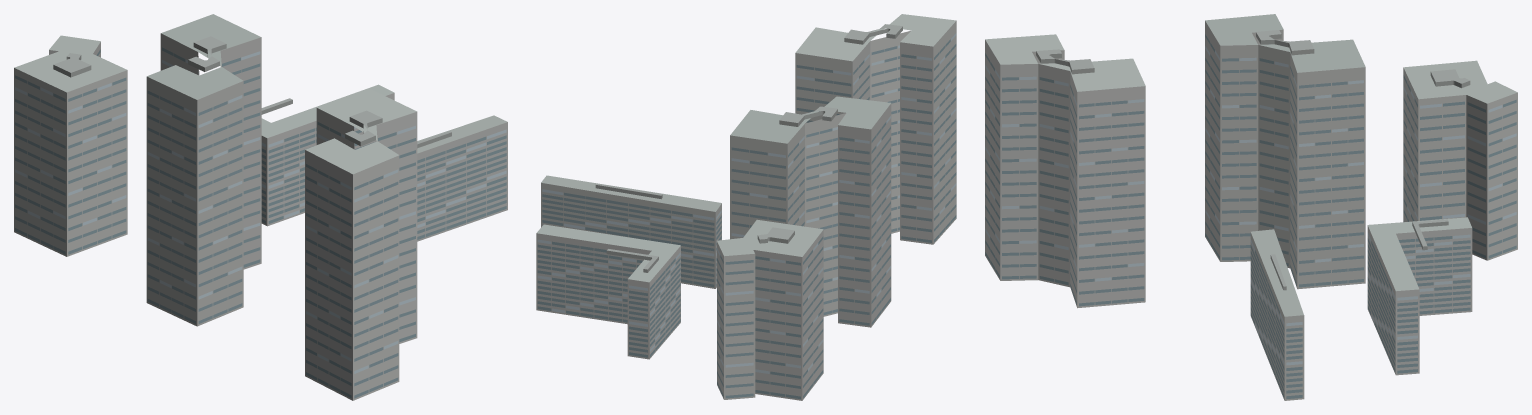
Rendered from apt-a13788206.glb.
3 views of the same model, side by side, from view 1: azimuth 30°, elevation 25°; view 2: azimuth 150°, elevation 25°; view 3: azimuth 270°, elevation 25° (orthographic). The views are drawn at different scales.
Parts seen in each view (by area): view 1: apt-a13788206; view 2: apt-a13788206; view 3: apt-a13788206.
Boxes of the visible parts, <box> form: apt-a13788206: <box>14,14,507,400</box>; apt-a13788206: <box>536,14,956,400</box>; apt-a13788206: <box>985,14,1517,400</box>.
Bounding box in the file's own units: 214 × 120 × 263.
